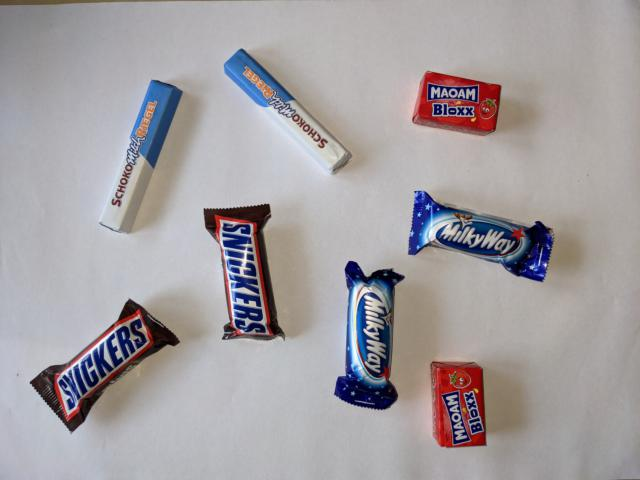MAOAM: (408, 67, 505, 139), (427, 357, 490, 451)
MilkyWay: (404, 187, 558, 285), (331, 259, 408, 412)
Schokoriegel: (220, 46, 355, 177), (95, 77, 186, 238)
Snickers: (26, 295, 182, 436), (200, 201, 289, 345)
